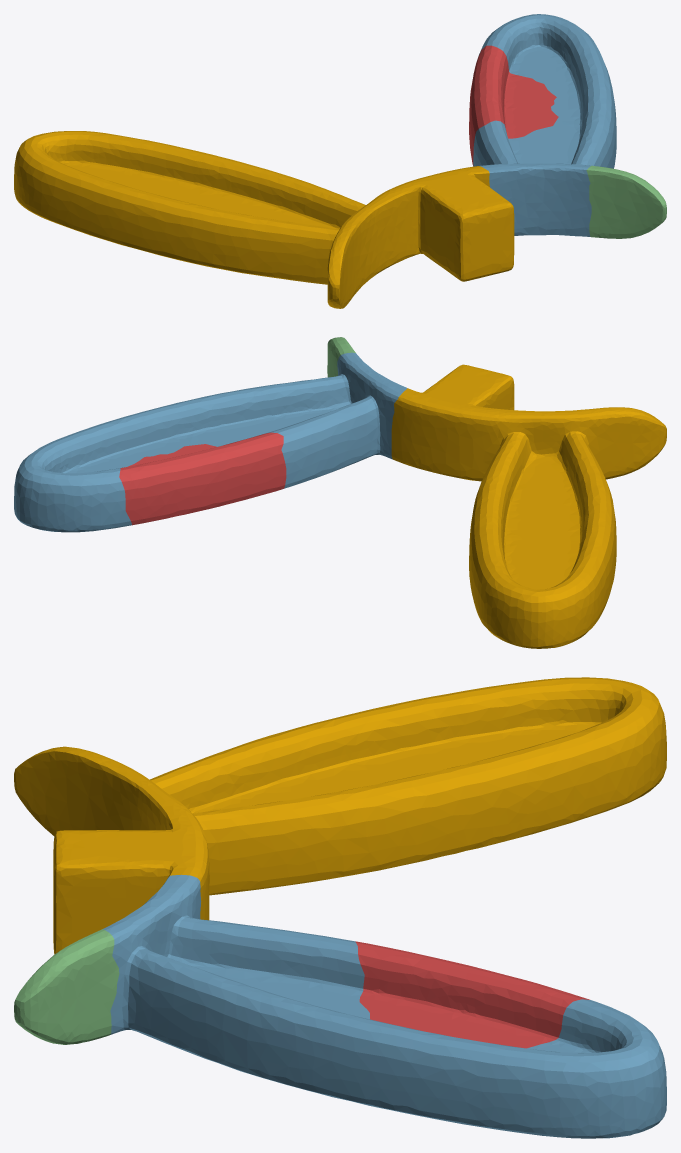
The model's file is fractured_17_4pcs.glb.
3 views of the same model, one above another, from view 1: azimuth 30°, elevation 25°; view 2: azimuth 150°, elevation 25°; view 3: azimuth 270°, elevation 25° (orthographic). The views are drawn at different scales.
Parts seen in each view (by area): view 1: piece_0.obj, piece_2.obj, piece_1.obj, piece_3.obj; view 2: piece_0.obj, piece_2.obj, piece_1.obj, piece_3.obj; view 3: piece_0.obj, piece_2.obj, piece_1.obj, piece_3.obj.
Part boxes in pixels (left/top/right/bottom): piece_0.obj: left=14, top=131, right=514, bottom=308; piece_2.obj: left=473, top=14, right=616, bottom=236; piece_1.obj: left=469, top=45, right=558, bottom=165; piece_3.obj: left=586, top=165, right=666, bottom=238; piece_0.obj: left=391, top=364, right=666, bottom=648; piece_2.obj: left=14, top=352, right=407, bottom=532; piece_1.obj: left=119, top=432, right=286, bottom=525; piece_3.obj: left=327, top=337, right=355, bottom=377; piece_0.obj: left=14, top=677, right=666, bottom=954; piece_2.obj: left=103, top=874, right=666, bottom=1138; piece_1.obj: left=355, top=941, right=589, bottom=1048; piece_3.obj: left=14, top=929, right=119, bottom=1044.
Size of the model in its own units: 1 by 0.1158 by 0.6933.
